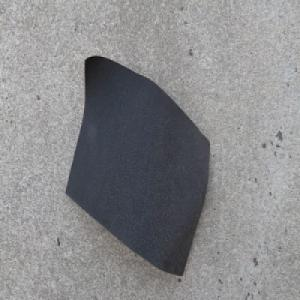PaintChip: (64, 54, 210, 277)
